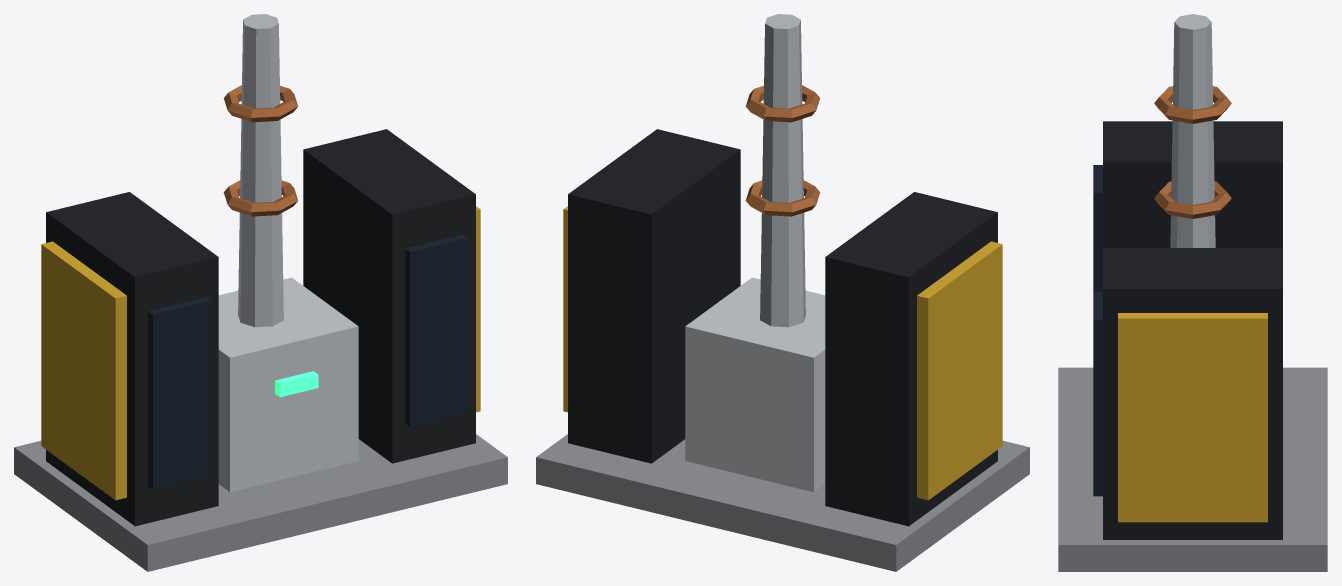
File: comm-electra-marco.glb
3 views of the same model, side by side, from view 1: azimuth 30°, elevation 25°; view 2: azimuth 150°, elevation 25°; view 3: azimuth 270°, elevation 25° (orthographic).
Visible parts, largest first — view 1: CommElectraMarco_HullBlack, CommElectraMarco_Titanium, CommElectraMarco_Aluminum, CommElectraMarco_Visor, CommElectraMarco_FoilGold, CommElectraMarco_Steel, CommElectraMarco_Copper, CommElectraMarco_LedGreen; view 2: CommElectraMarco_HullBlack, CommElectraMarco_Titanium, CommElectraMarco_Aluminum, CommElectraMarco_FoilGold, CommElectraMarco_Steel, CommElectraMarco_Copper; view 3: CommElectraMarco_HullBlack, CommElectraMarco_FoilGold, CommElectraMarco_Titanium, CommElectraMarco_Steel, CommElectraMarco_Visor, CommElectraMarco_Copper.
Boxes of the visible parts, x1,y1,x2,y2 form: CommElectraMarco_HullBlack: (46,129,475,526); CommElectraMarco_Titanium: (14,434,507,571); CommElectraMarco_Aluminum: (218,277,358,492); CommElectraMarco_Visor: (148,234,467,489); CommElectraMarco_FoilGold: (41,206,480,500); CommElectraMarco_Steel: (238,14,283,327); CommElectraMarco_Copper: (223,85,298,216); CommElectraMarco_LedGreen: (275,371,318,397); CommElectraMarco_HullBlack: (568,129,997,526); CommElectraMarco_Titanium: (536,434,1029,571); CommElectraMarco_Aluminum: (685,277,825,492); CommElectraMarco_FoilGold: (563,206,1002,500); CommElectraMarco_Steel: (760,14,805,327); CommElectraMarco_Copper: (745,85,820,216); CommElectraMarco_HullBlack: (1103,121,1282,539); CommElectraMarco_FoilGold: (1118,313,1267,522); CommElectraMarco_Titanium: (1058,367,1327,571); CommElectraMarco_Steel: (1170,14,1215,247); CommElectraMarco_Visor: (1093,165,1102,496); CommElectraMarco_Copper: (1154,86,1231,218).
Size of the model in its own units: 0.568 by 0.68 by 0.36.
